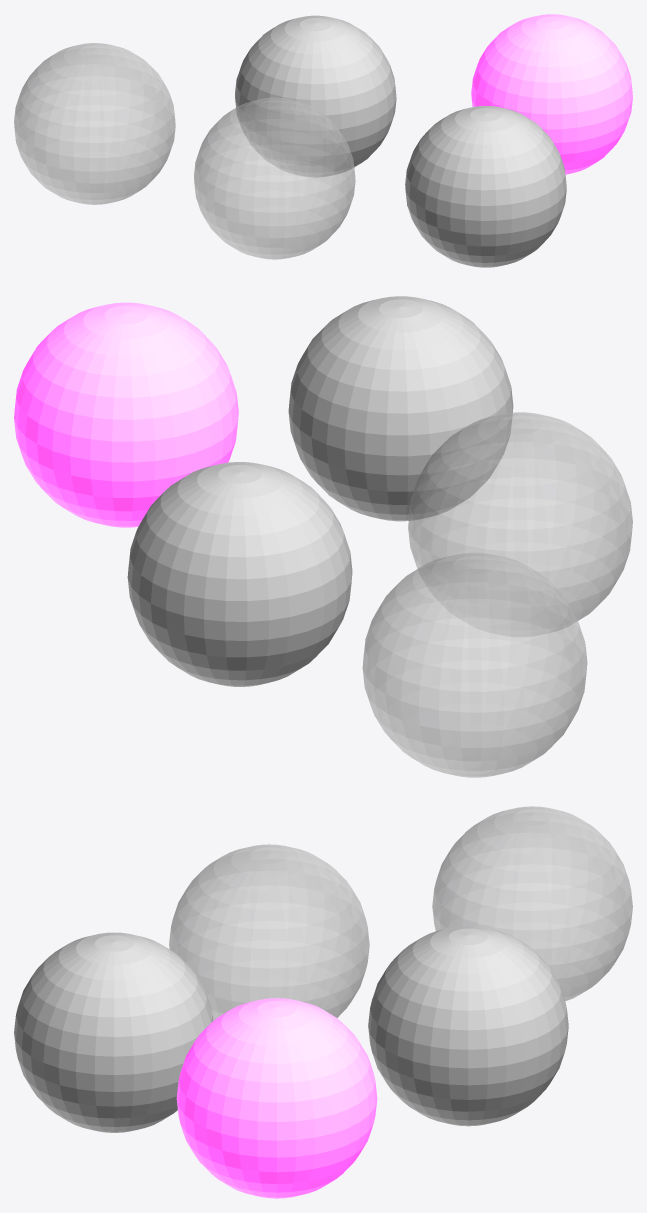
File: GLB_test_04.glb
The picture shows the model from 3 angles, top to bottom: view 1: azimuth 30°, elevation 25°; view 2: azimuth 150°, elevation 25°; view 3: azimuth 270°, elevation 25°; orthographic projection. The views are drawn at different scales.
Visible parts, largest first — view 1: Sphere.002, Sphere.004, Sphere, Sphere.003, Sphere.001; view 2: Sphere.003, Sphere.002, Sphere.004, Sphere, Sphere.001; view 3: Sphere.001, Sphere.003, Sphere.002, Sphere, Sphere.004.
Part boxes in pixels (x1,y1,x2,y2): Sphere.002: (405,106,566,267); Sphere.004: (14,43,175,204); Sphere: (194,97,355,259); Sphere.003: (235,15,396,177); Sphere.001: (471,14,632,174); Sphere.003: (127,462,352,686); Sphere.002: (288,296,513,521); Sphere.004: (362,552,587,777); Sphere: (408,412,632,636); Sphere.001: (14,302,238,527); Sphere.001: (176,998,377,1198); Sphere.003: (368,925,568,1126); Sphere.002: (14,932,213,1132); Sphere: (169,844,369,1020); Sphere.004: (432,806,632,1000).
Size of the model in its own units: 7.04 by 2.26 by 6.17.
